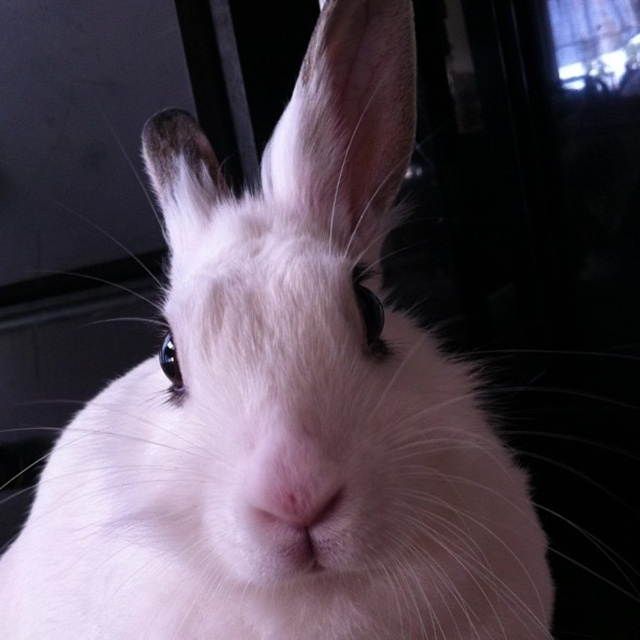Rabbit: (0, 0, 618, 639)
